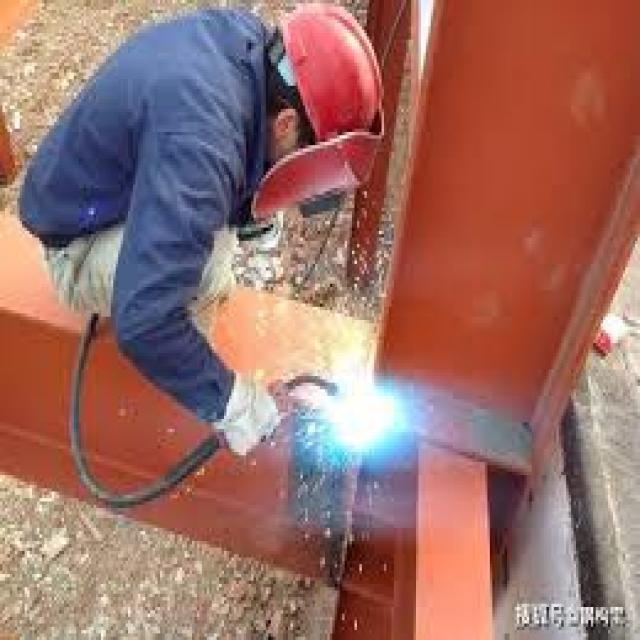welding: (323, 382, 403, 452)
